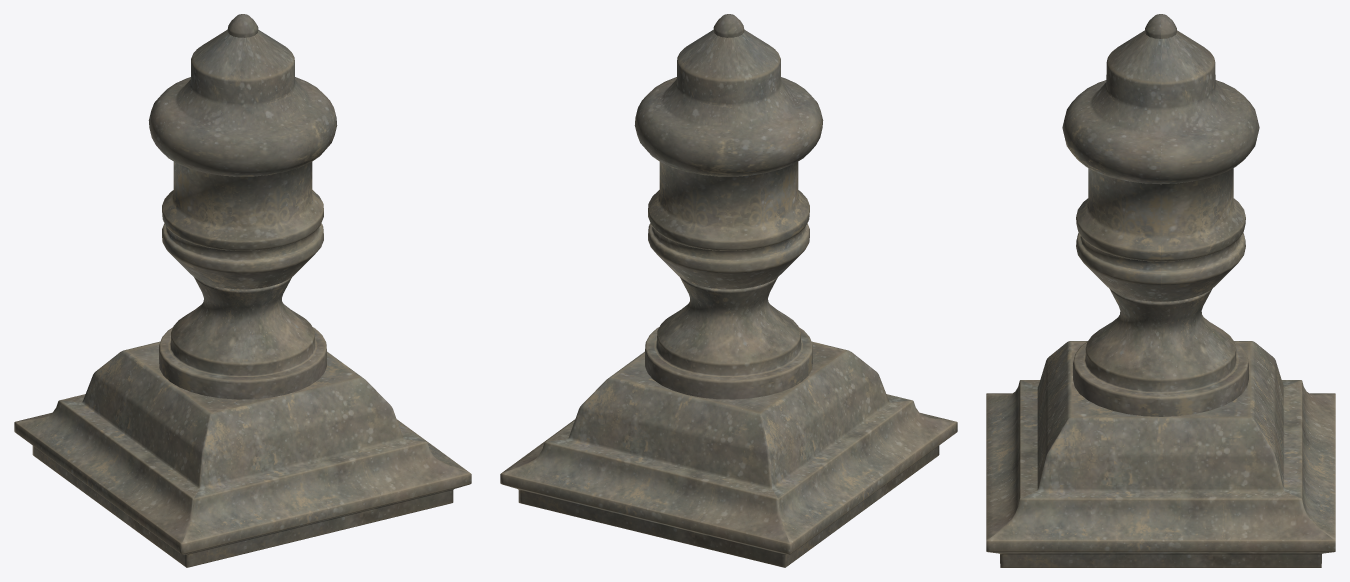
File: SM_Fence01_5_LOD0.glb
3 renders of one model, left to right at view 1: azimuth 30°, elevation 25°; view 2: azimuth 150°, elevation 25°; view 3: azimuth 270°, elevation 25°, orthographic. The views are drawn at different scales.
Visible parts, largest first — view 1: SM_Fence01_5_LOD0; view 2: SM_Fence01_5_LOD0; view 3: SM_Fence01_5_LOD0.
Part boxes in pixels (x1,y1,x2,y2): SM_Fence01_5_LOD0: (14, 14, 471, 567); SM_Fence01_5_LOD0: (500, 14, 957, 567); SM_Fence01_5_LOD0: (986, 14, 1335, 567).
Bounding box in the file's own units: 0.6903 × 1.06 × 0.6903.
Materials: 1 (1 with a texture image).
